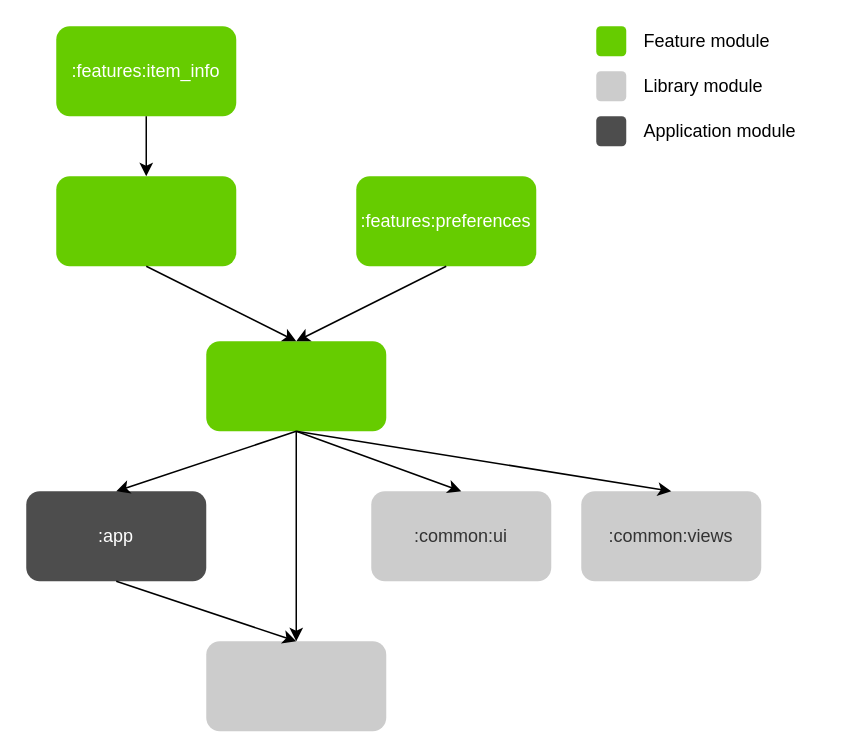
This 846x756 diagram has some shape labels left out. Each missing label, with the centre of its shape:
":core" belongs at pixel 296 685.
":features:home" belongs at pixel 296 385.
":features:items_list" belongs at pixel 146 221.
